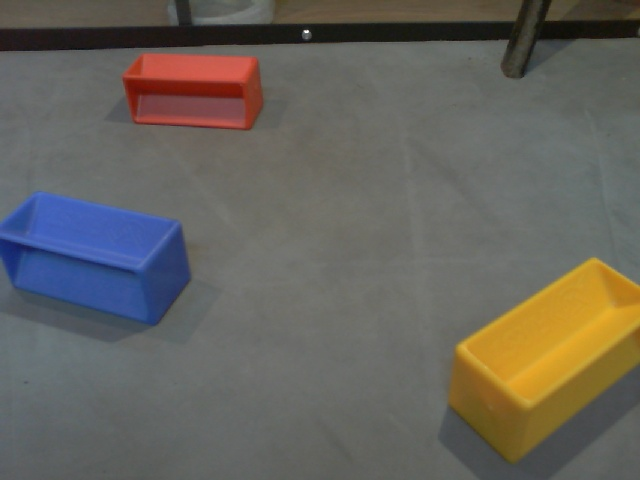BlueSample: (1, 189, 198, 333)
RedSample: (122, 51, 266, 133)
YellowSample: (442, 258, 640, 462)
